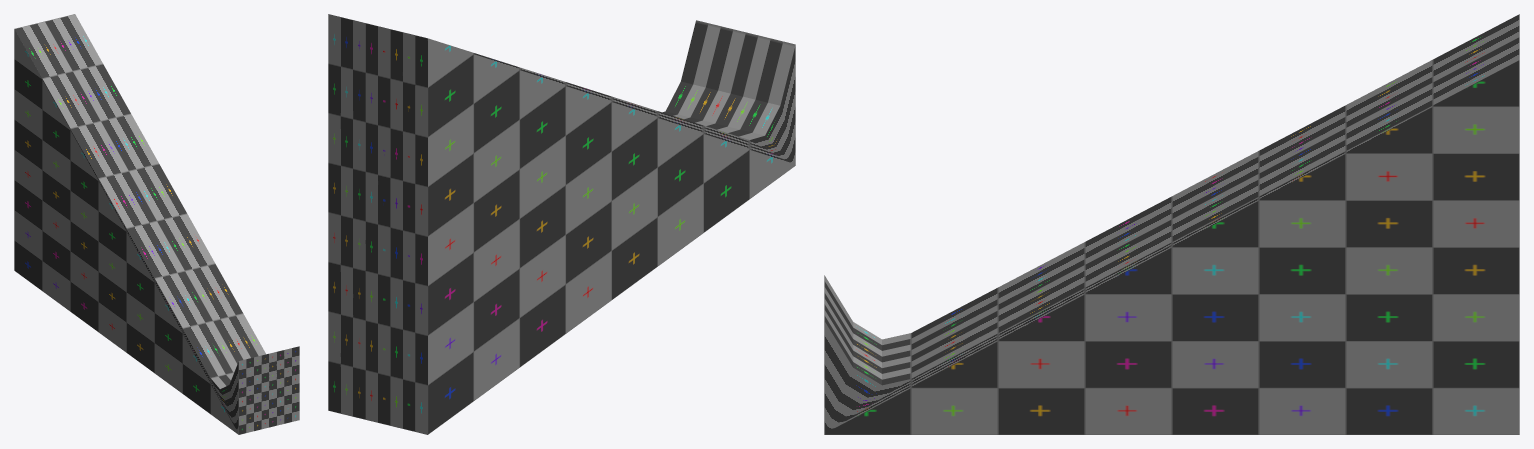
Rendered from starter-ramp.glb.
3 views of the same model, side by side, from view 1: azimuth 30°, elevation 25°; view 2: azimuth 150°, elevation 25°; view 3: azimuth 270°, elevation 25° (orthographic). The views are drawn at different scales.
Parts seen in each view (by area): view 1: Cube; view 2: Cube; view 3: Cube.
Part boxes in pixels (x1=…): Cube: x1=14, y1=14, x2=299, y2=434; Cube: x1=328, y1=14, x2=795, y2=434; Cube: x1=824, y1=14, x2=1519, y2=434.
Size of the model in its own units: 18.92 by 72 by 121.
1 material, 1 textured.
